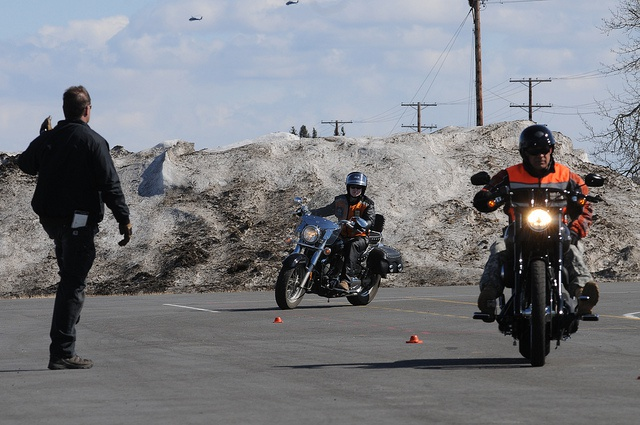non-vehicle: (468, 166, 608, 371), (274, 193, 404, 310)
